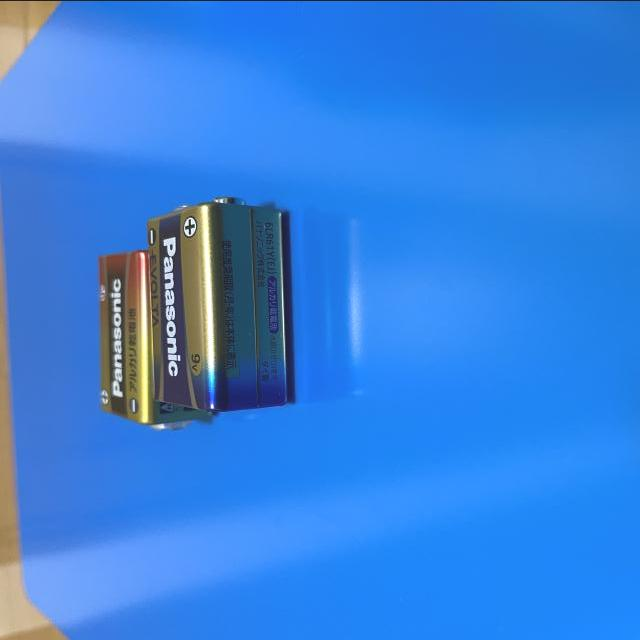9V: (146, 196, 291, 409), (98, 247, 214, 430)
